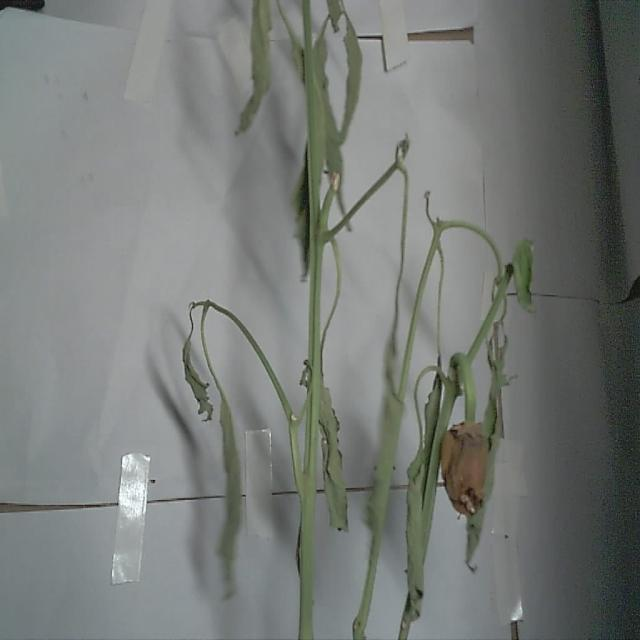Leaf: (216, 390, 247, 605), (318, 385, 352, 539), (241, 0, 270, 143), (335, 16, 364, 156), (402, 453, 425, 622)
